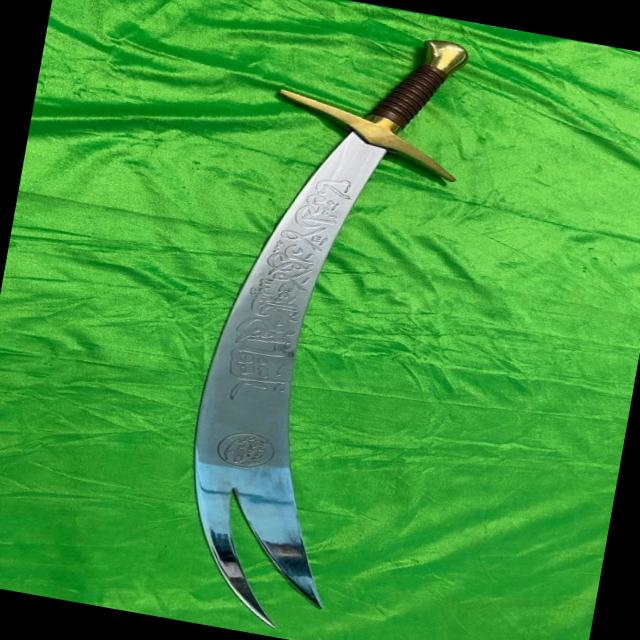Weapon: (154, 0, 484, 640)
